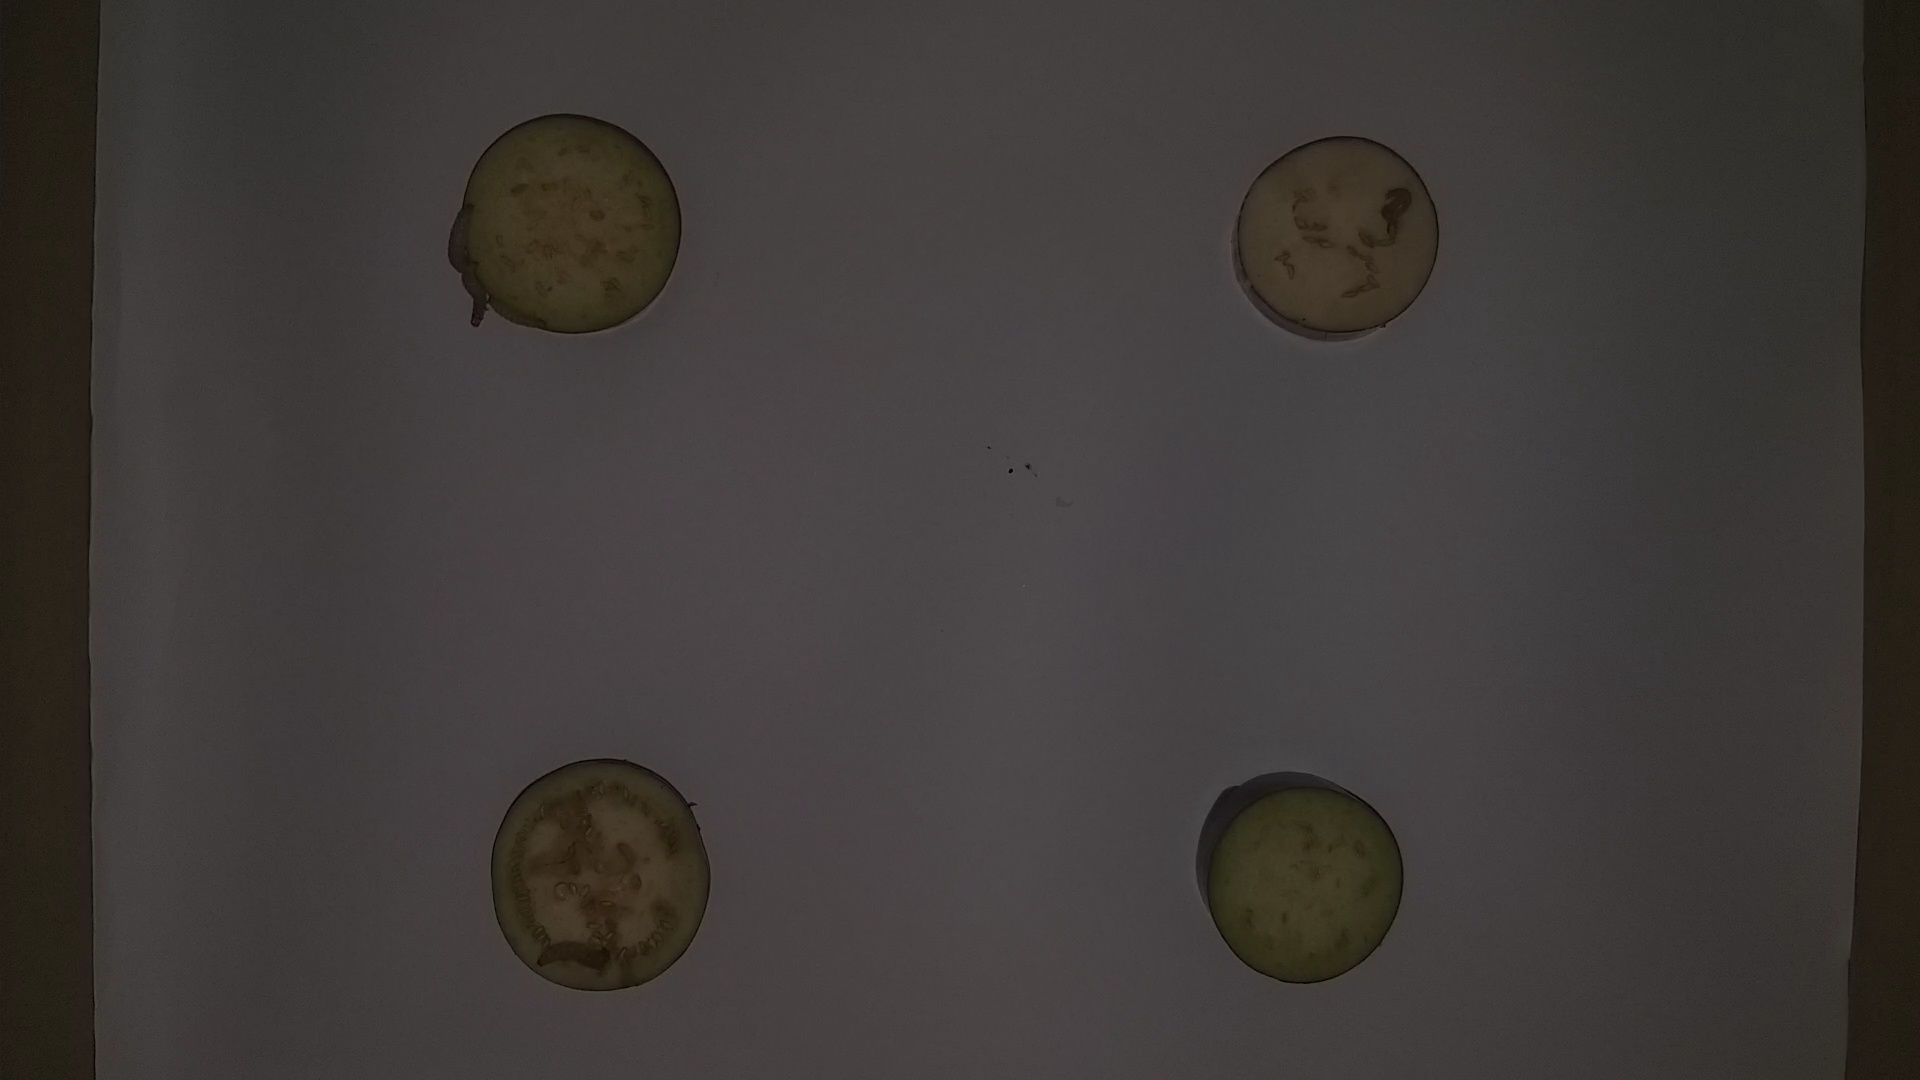efsb: (529, 932, 616, 977), (477, 291, 553, 331), (444, 196, 477, 276), (459, 257, 491, 339), (1375, 185, 1414, 232)
eggplant: (487, 749, 724, 992), (451, 105, 683, 345), (1188, 761, 1411, 992), (1226, 125, 1444, 349)
